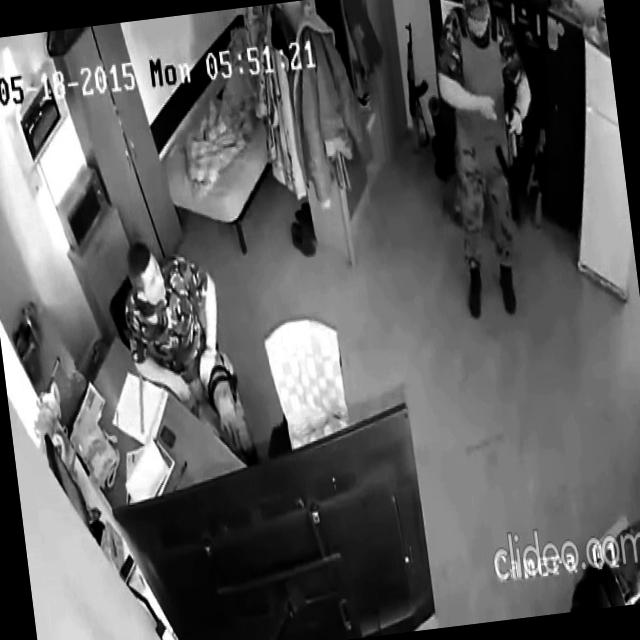gun: (484, 73, 536, 265), (396, 19, 437, 153)
person: (115, 227, 260, 482)
person with a gun: (426, 0, 559, 317)
